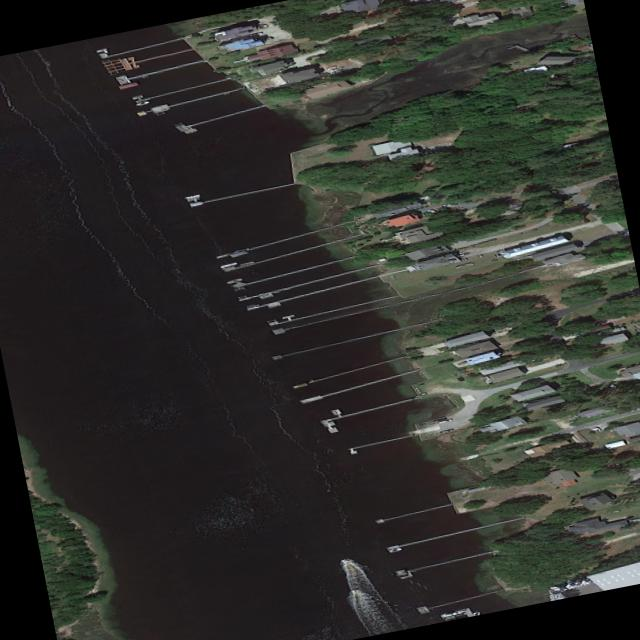ship: (440, 610, 466, 618), (218, 262, 239, 268), (547, 586, 570, 590), (562, 584, 576, 590), (134, 101, 150, 106), (243, 304, 259, 309), (578, 580, 589, 586), (341, 558, 349, 565), (591, 427, 600, 432), (351, 589, 357, 594)
small-vehicle: (454, 252, 472, 258), (436, 419, 452, 424), (438, 429, 453, 434), (452, 251, 466, 256), (431, 418, 446, 422), (440, 204, 458, 207), (627, 518, 639, 522), (567, 419, 579, 423), (425, 209, 436, 213), (456, 377, 464, 382), (630, 408, 640, 411)
